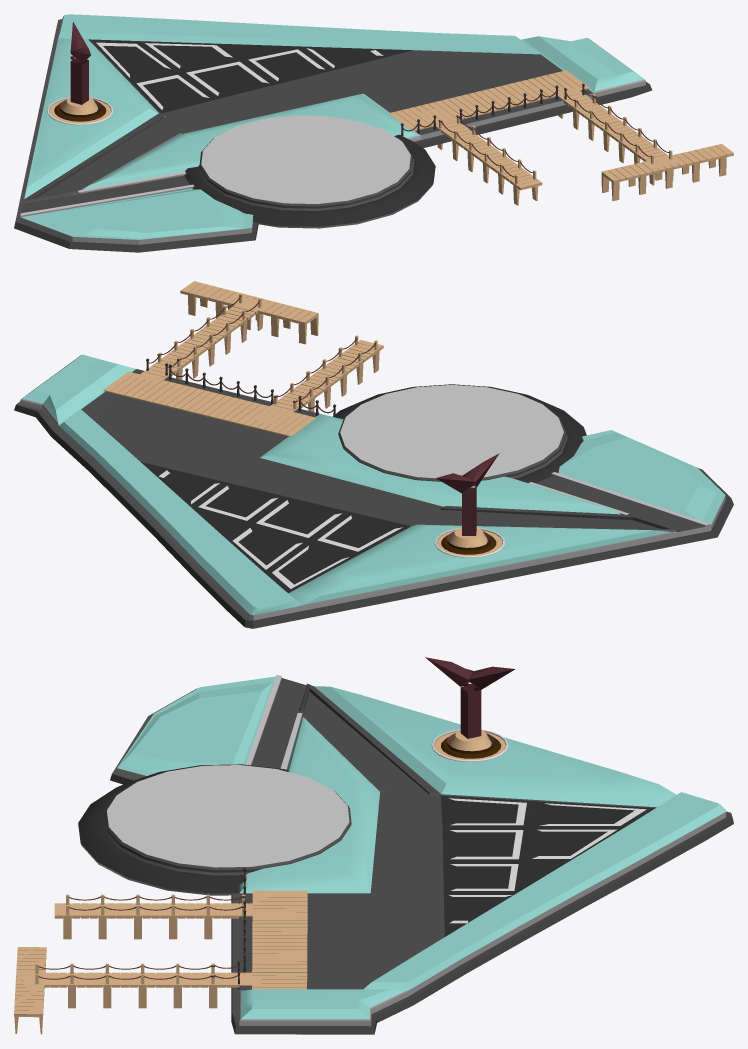
The model's file is dock_fullscene_combined.fbx.
3 renders of one model, top to bottom at view 1: azimuth 30°, elevation 25°; view 2: azimuth 150°, elevation 25°; view 3: azimuth 270°, elevation 25°, orthographic. The views are drawn at different scales.
Visible parts, largest first — view 1: pasted__pCube17; view 2: pasted__pCube17; view 3: pasted__pCube17.
Boxes of the visible parts, x1,y1,x2,y2 form: pasted__pCube17: (14,14,733,252); pasted__pCube17: (14,281,733,628); pasted__pCube17: (14,657,733,1034).
Size of the model in its own units: 38.7 by 6.1 by 33.62.
